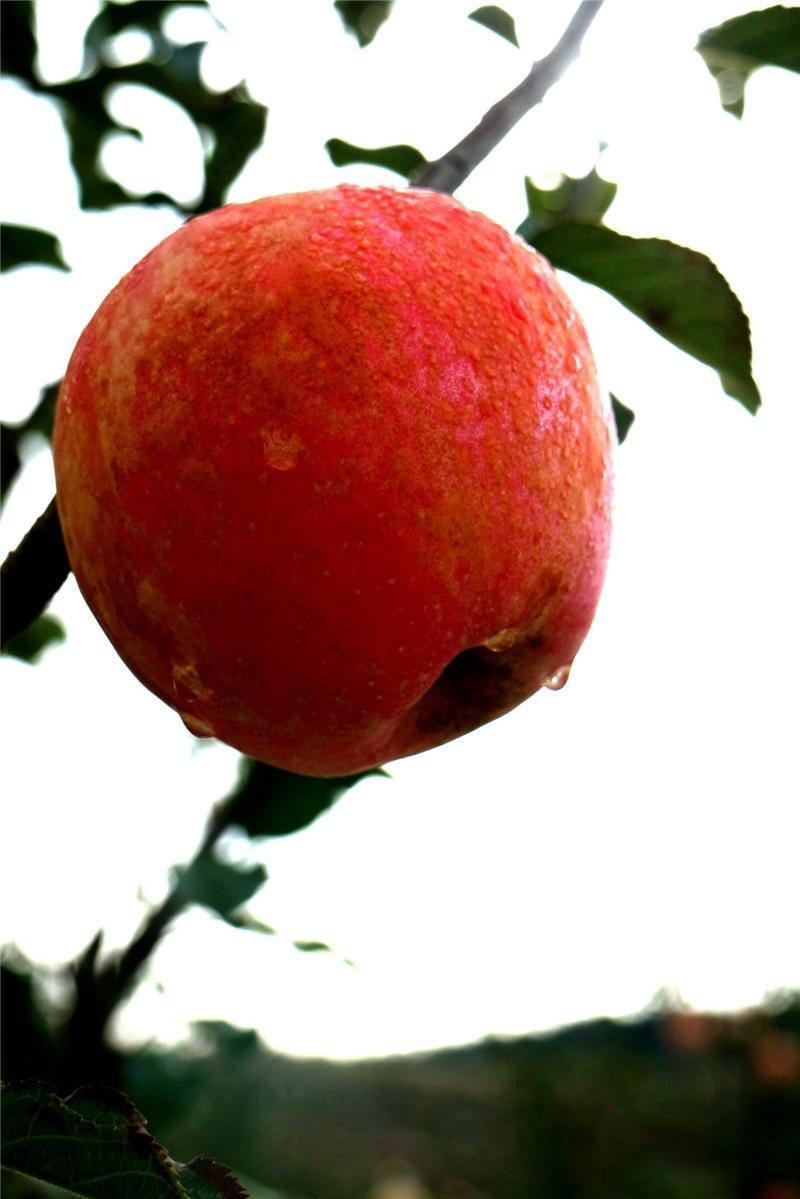apple: (51, 187, 613, 776)
